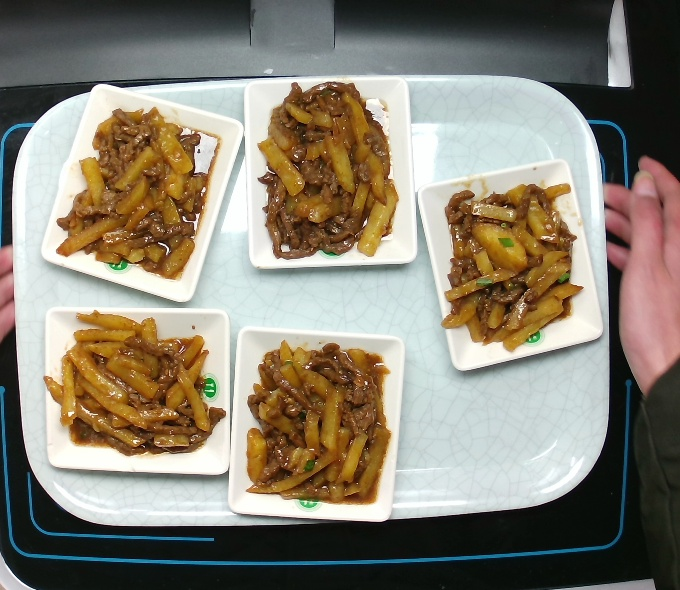wcq-TuDouNiuRou: (55, 91, 219, 291), (32, 305, 228, 468), (436, 172, 592, 363), (242, 328, 403, 513), (250, 70, 405, 259)
